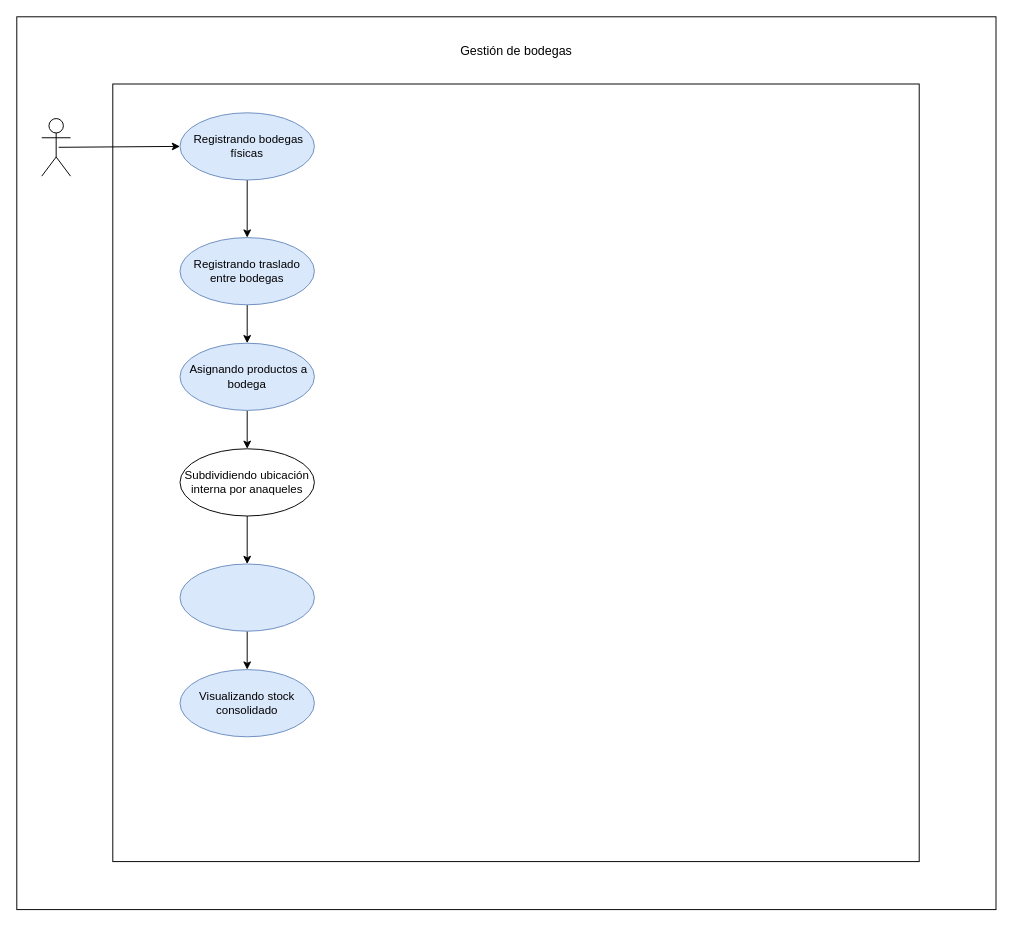
Some shapes in this 1013 by 926 pixel diagram are drawn without their labels. Here are the shapes that lost their labels. From the top down, the centre of each, then its label:
the point at 56,147: Gerencia
the point at 246,597: Visualizando stock por bodega
